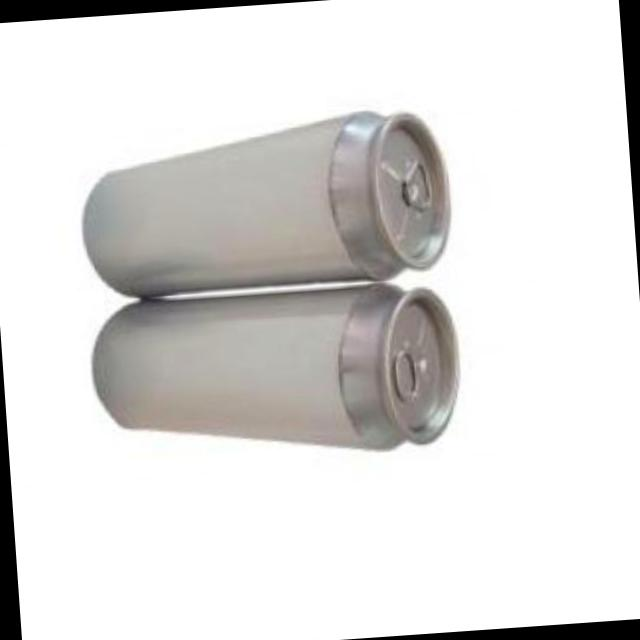metal: (87, 108, 451, 292), (96, 281, 460, 445)
